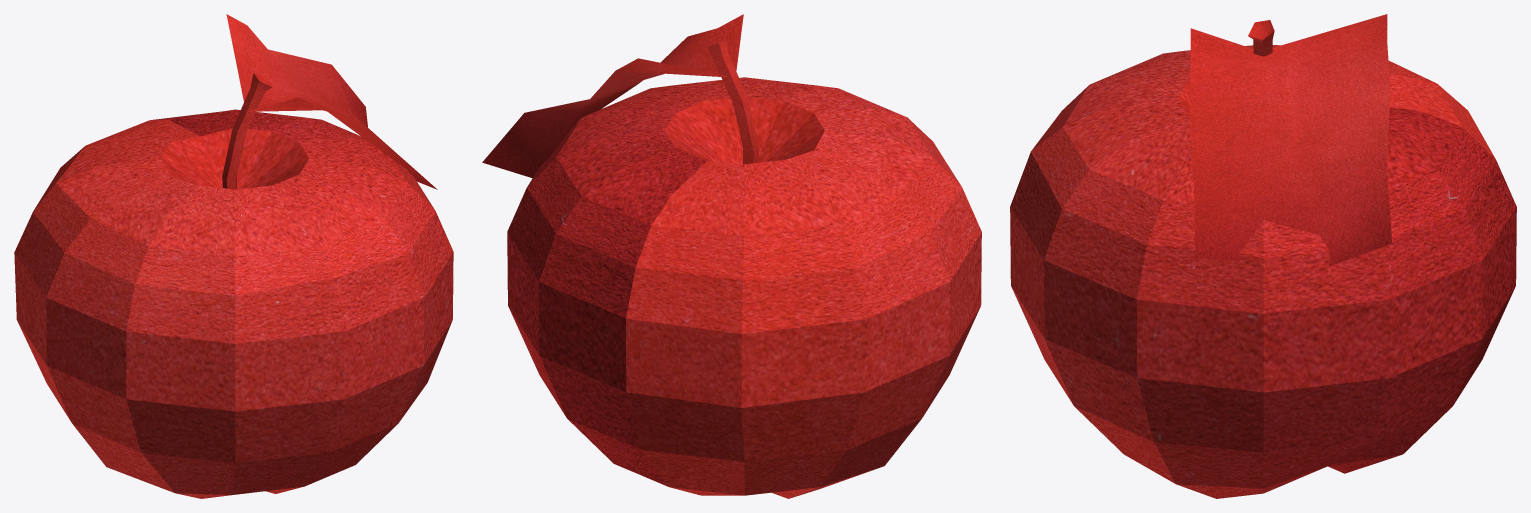
The model's file is apple.obj.
The picture shows the model from 3 angles, left to right: view 1: azimuth 30°, elevation 25°; view 2: azimuth 150°, elevation 25°; view 3: azimuth 270°, elevation 25°; orthographic projection. The views are drawn at different scales.
Parts seen in each view (by area): view 1: Red_apple; view 2: Red_apple; view 3: Red_apple.
Part boxes in pixels (x1,y1,x2,y2): Red_apple: (14, 14, 453, 498); Red_apple: (482, 14, 981, 498); Red_apple: (1010, 14, 1516, 498).
Bounding box in the file's own units: 2.02 × 2.09 × 2.02.
